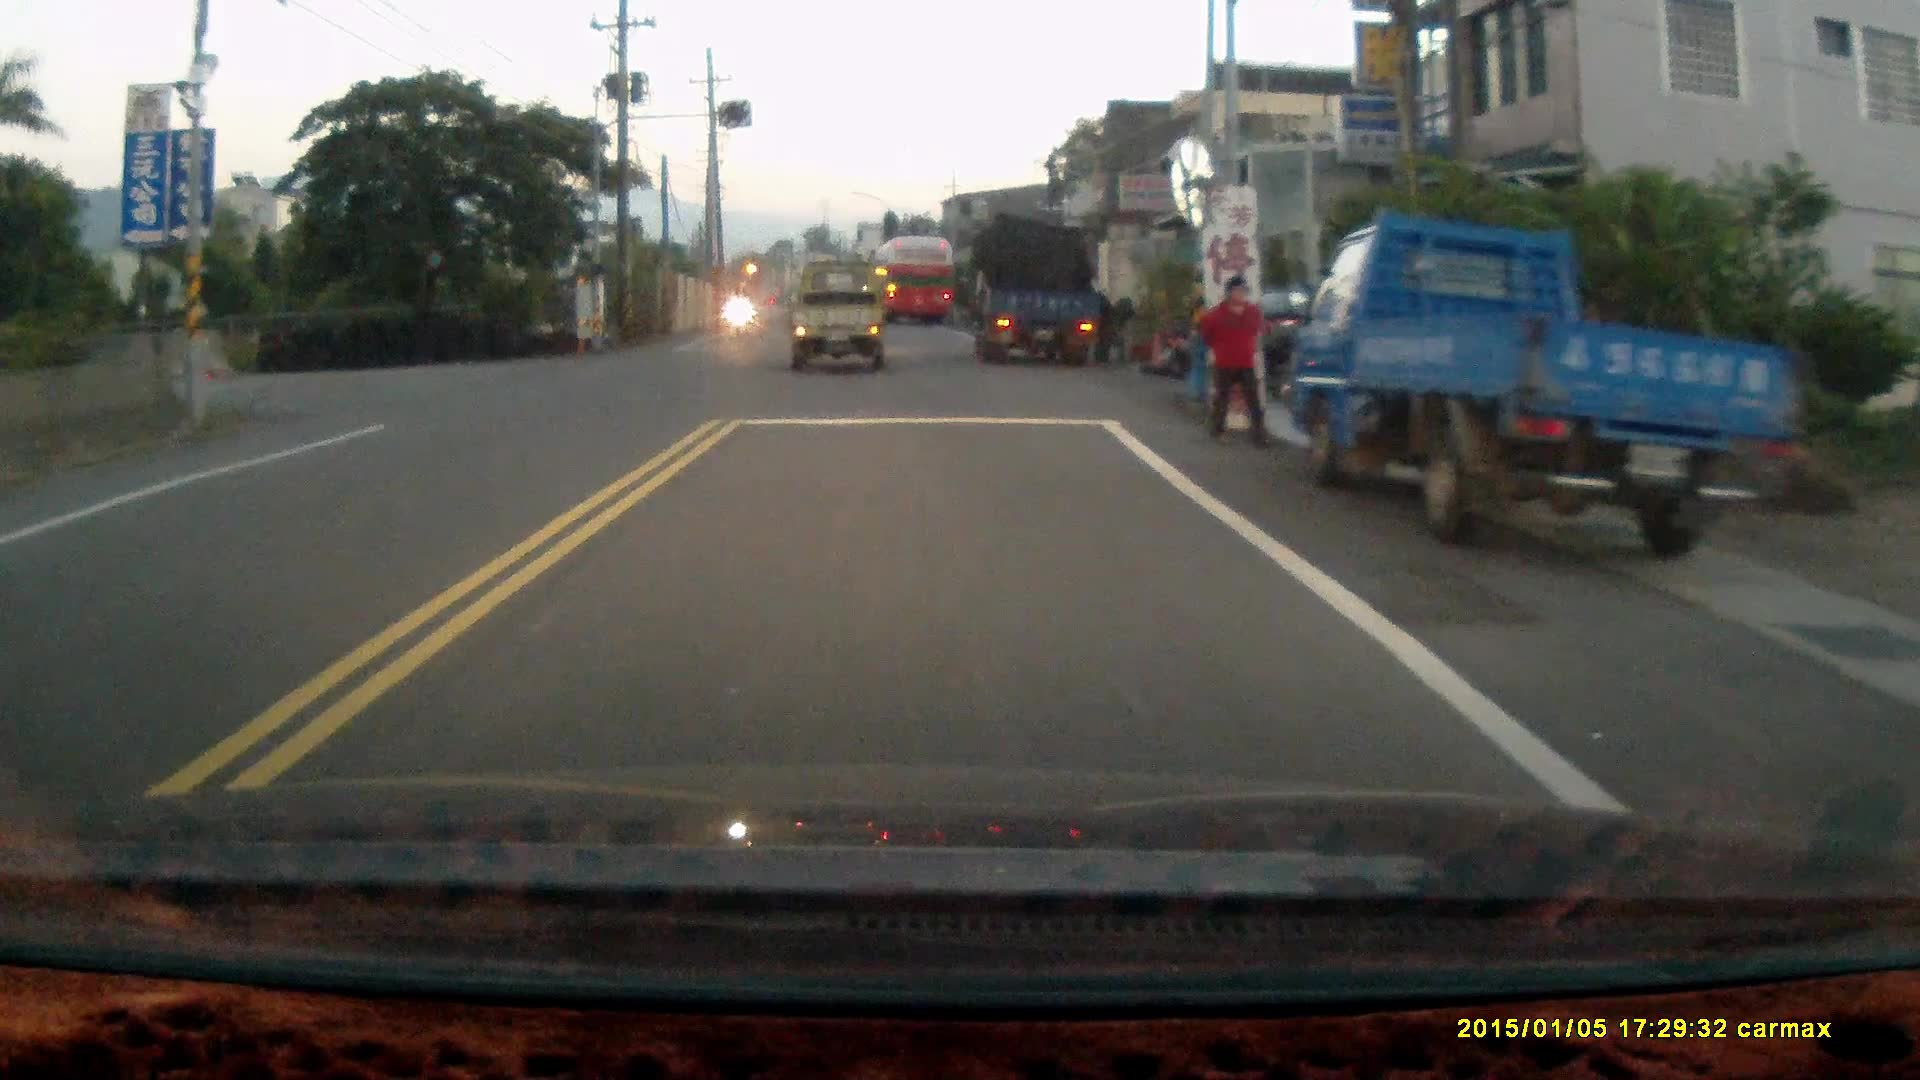pedestrian: (1196, 273, 1275, 455)
rider: (727, 278, 755, 337)
vehicle: (1292, 213, 1809, 560), (974, 220, 1120, 379), (793, 261, 890, 377), (871, 233, 960, 325)
